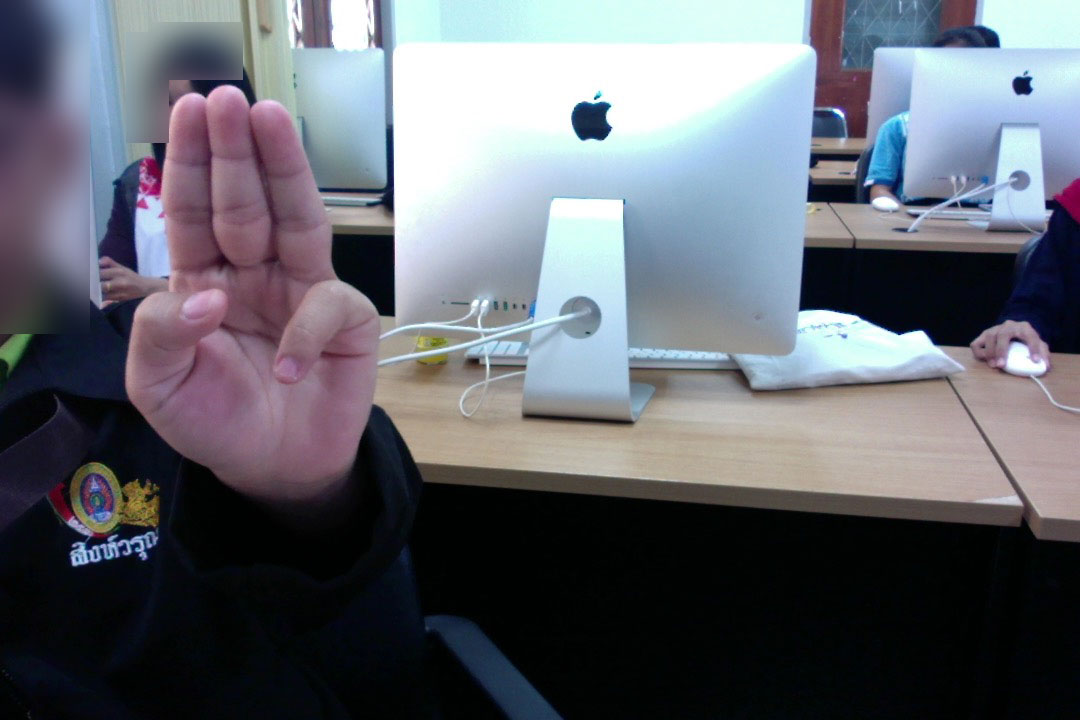wor: (117, 83, 393, 489)
